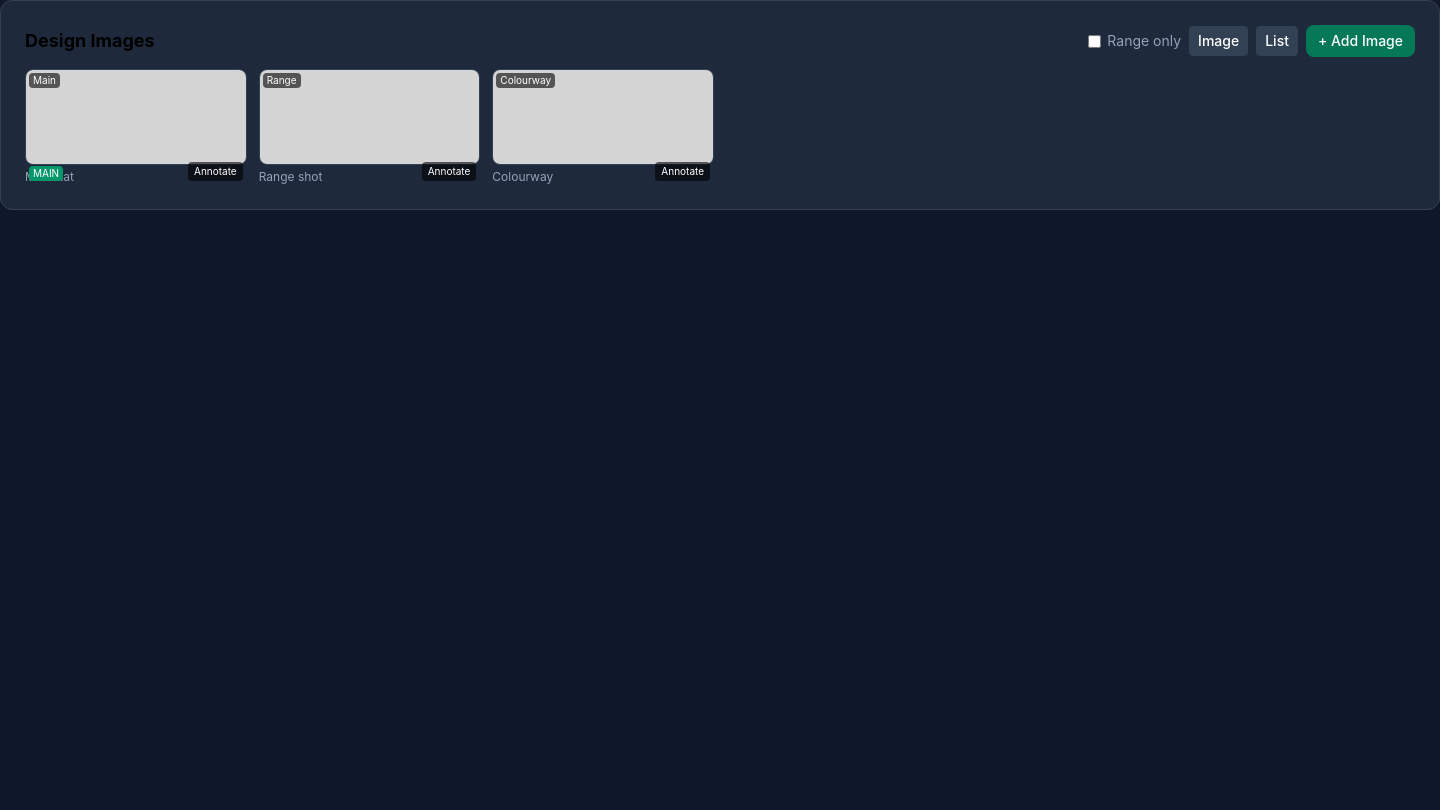
Test: DesignSheetImages › closes the annotation dialog without persisting
The image size is (1440, 810).
Click the button with test id "design-images-annotate-img-1".
click(215, 172)  # box [188,162,243,181]
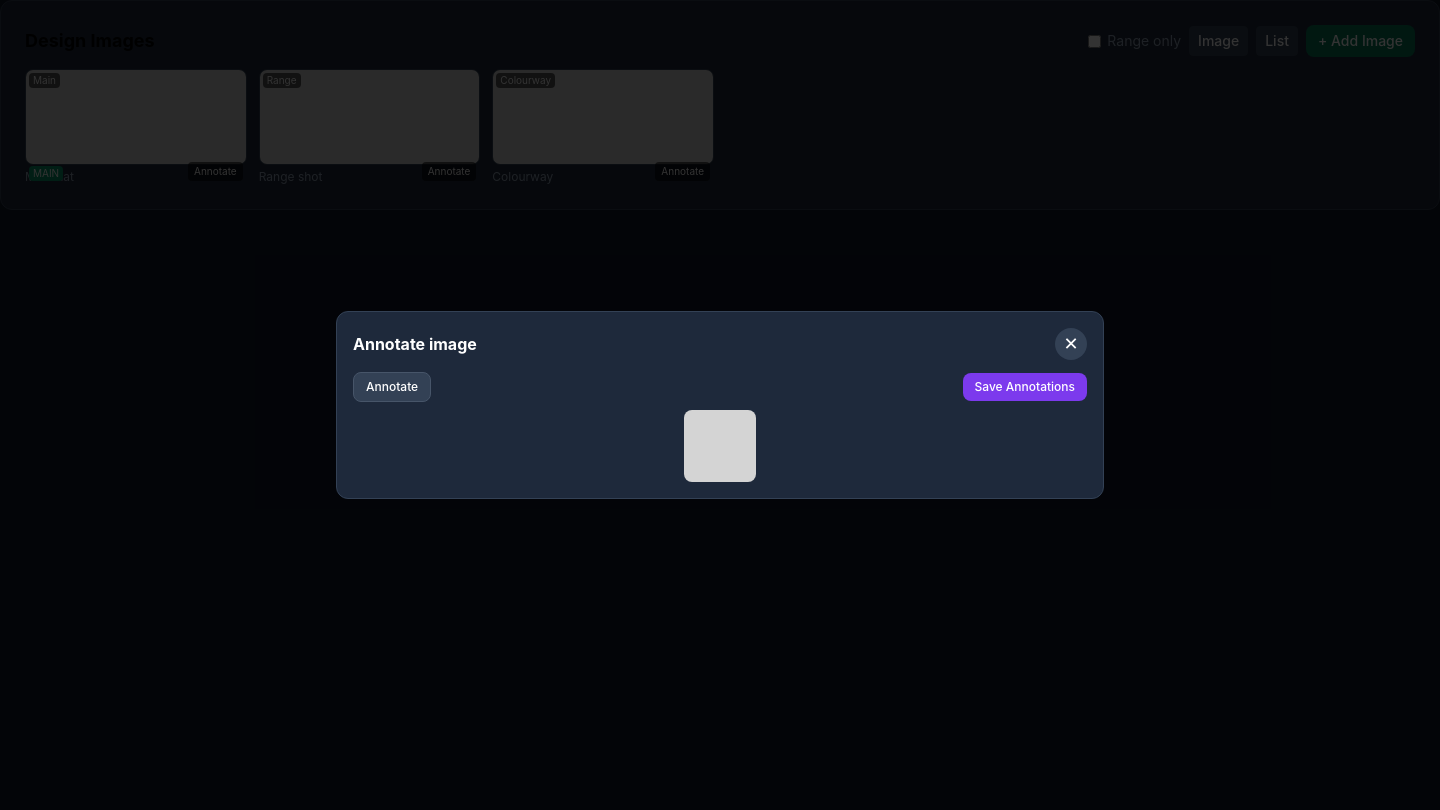
Click the button with test id "design-images-annotate-close".
click(1071, 344)  # box [1055,328,1087,360]
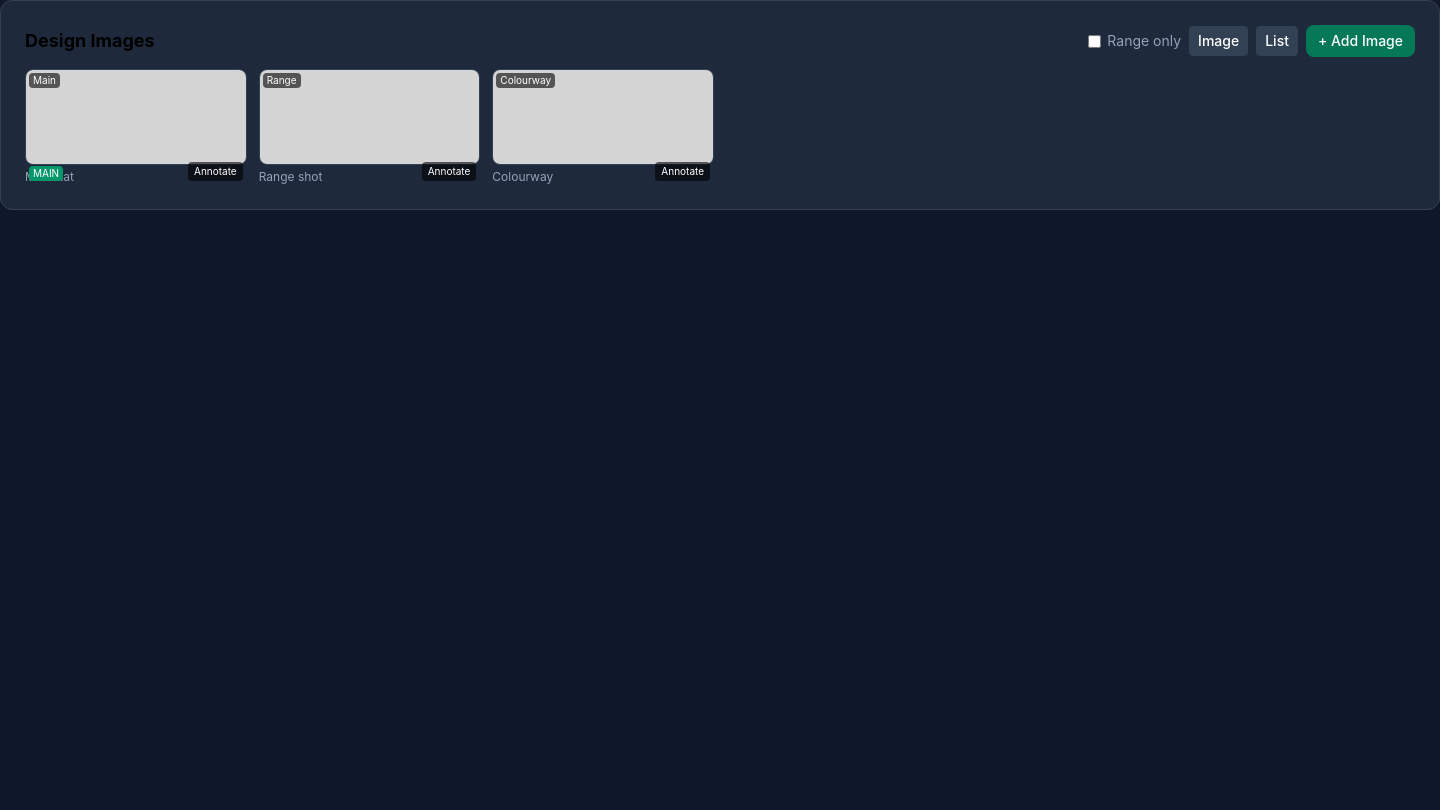
Result: the heading "Annotate image" is gone
